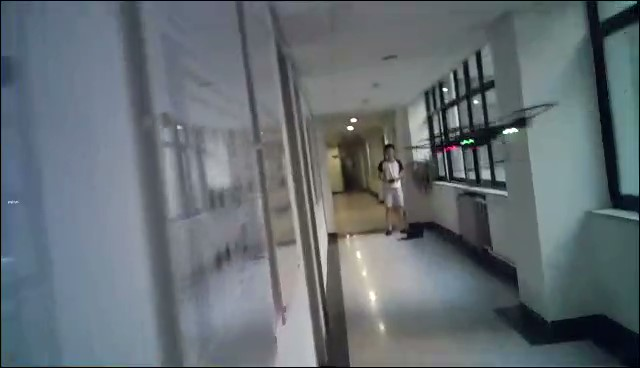drone: (403, 101, 560, 173)
person: (376, 143, 409, 237)
